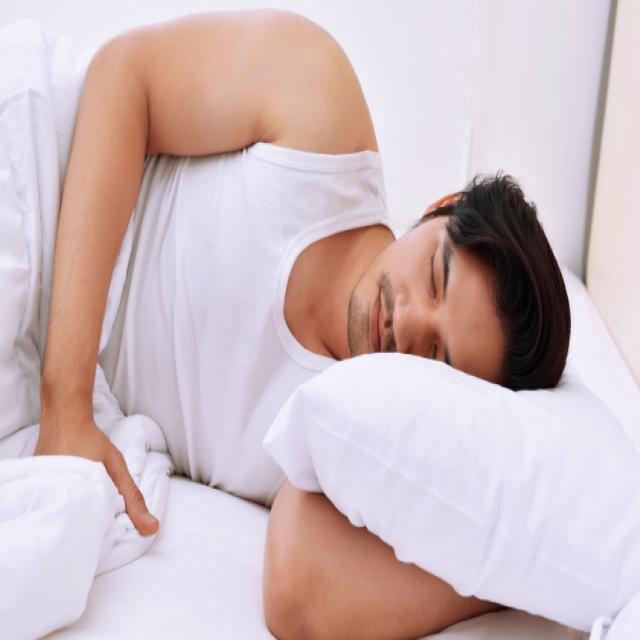lie: (0, 106, 587, 473)
